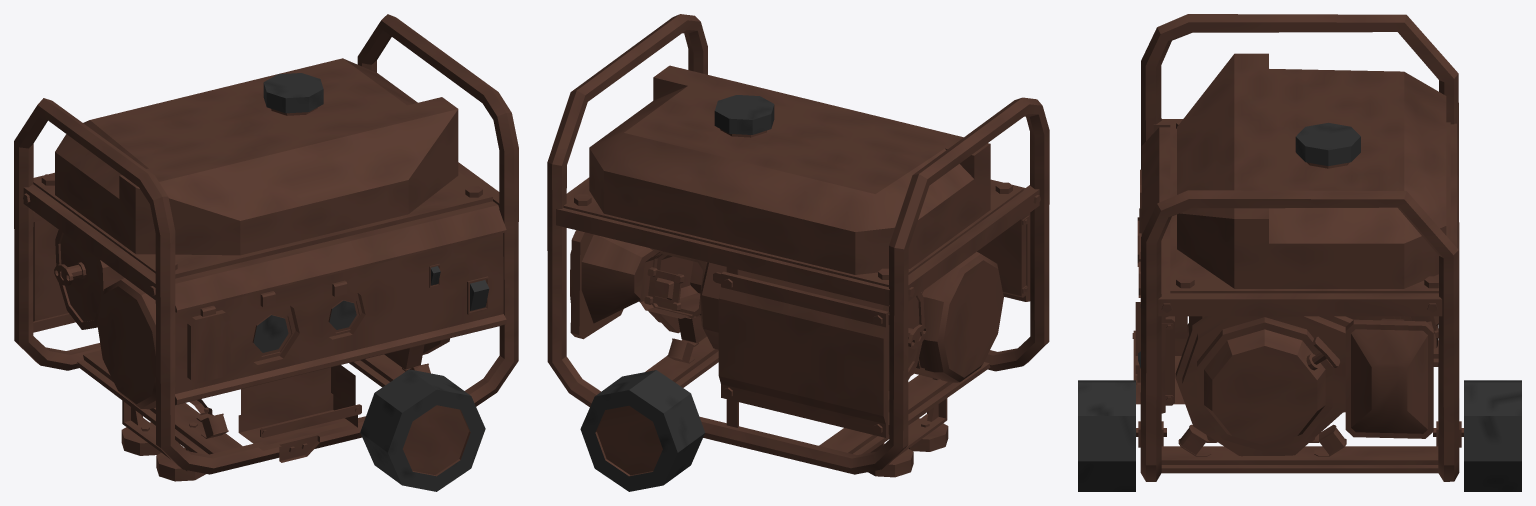
Rendered from Generator.fbx.
The picture shows the model from 3 angles, left to right: view 1: azimuth 30°, elevation 25°; view 2: azimuth 150°, elevation 25°; view 3: azimuth 270°, elevation 25°; orthographic projection. The views are drawn at different scales.
Parts seen in each view (by area): view 1: Cylinder.004; view 2: Cylinder.004; view 3: Cylinder.004.
Boxes of the visible parts, <box> form: Cylinder.004: <box>14,14,518,491</box>; Cylinder.004: <box>547,14,1049,491</box>; Cylinder.004: <box>1078,14,1521,491</box>.
Bounding box in the file's own units: 159 × 143 × 162.
